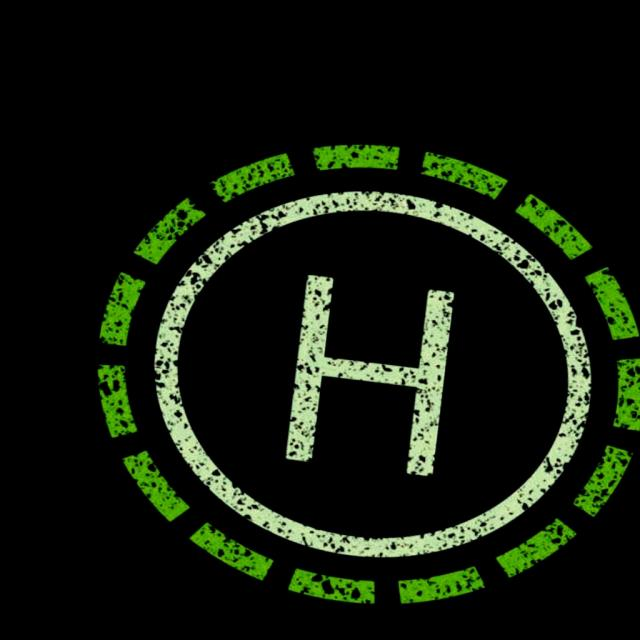helipad: (142, 182, 599, 562)
